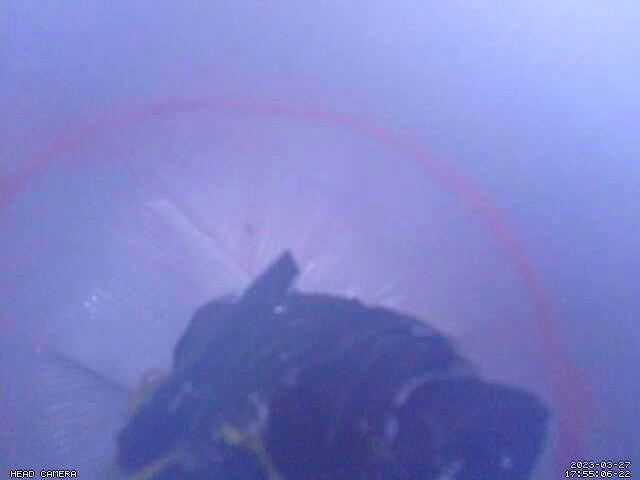head: (0, 95, 582, 480)
